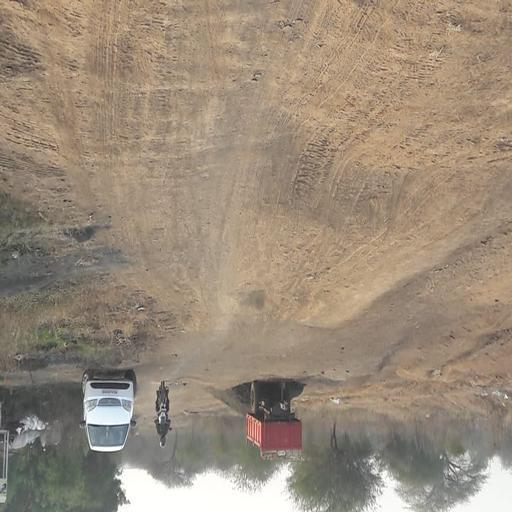vehicle_track: (78, 0, 323, 379)
